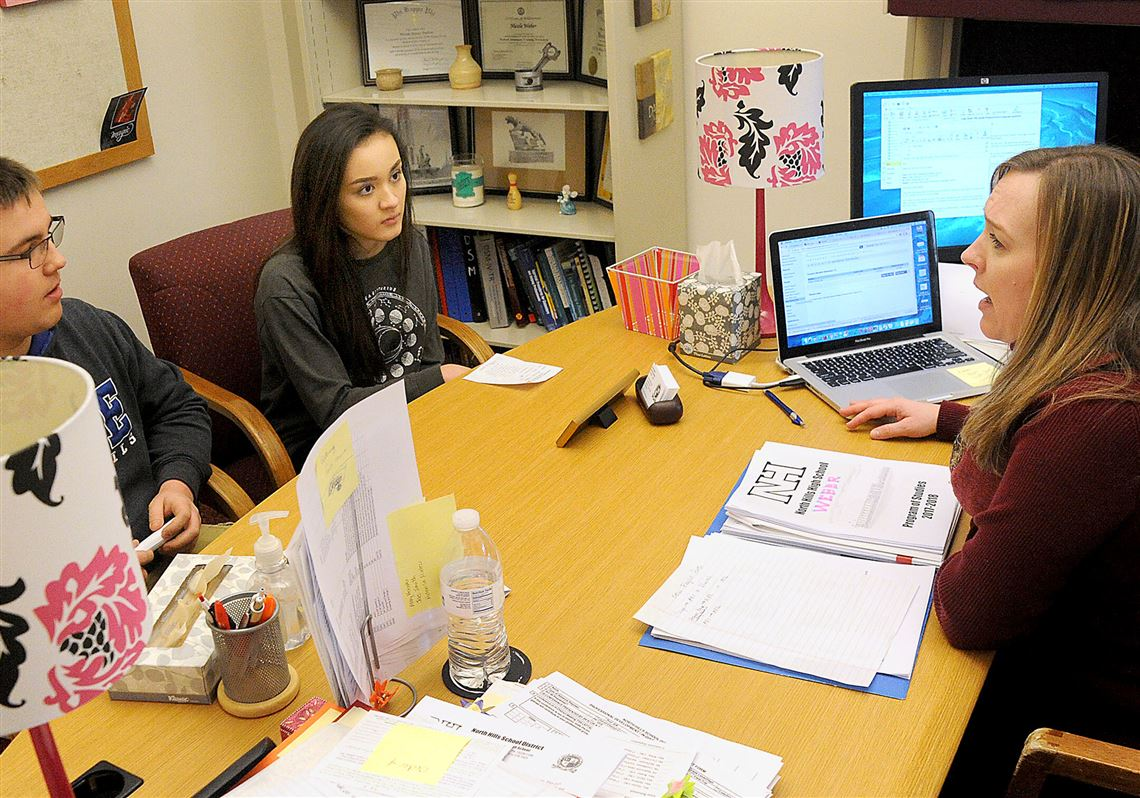Person: (892, 176, 1140, 776), (253, 93, 520, 321)
